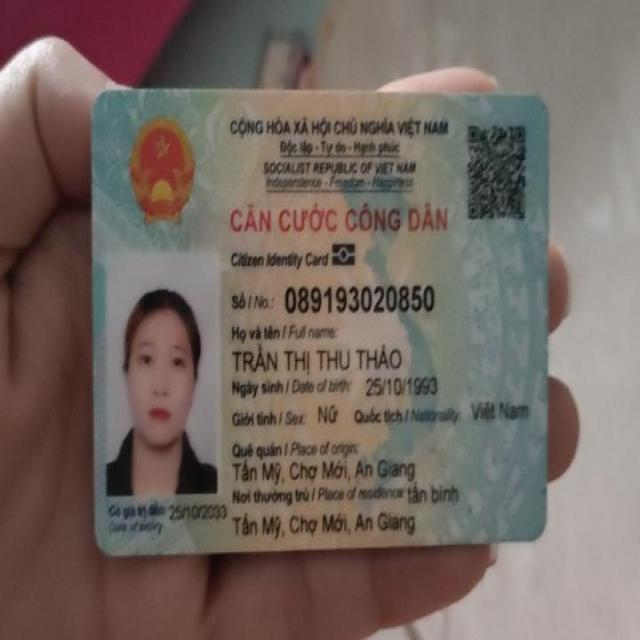bottom_left: (79, 522, 127, 576)
bottom_right: (516, 508, 558, 558)
image_person: (112, 266, 232, 502)
top_left: (70, 74, 129, 130)
top_right: (516, 78, 566, 130)
